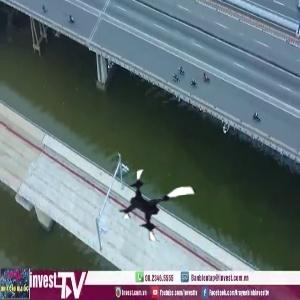drone: (117, 164, 200, 247)
